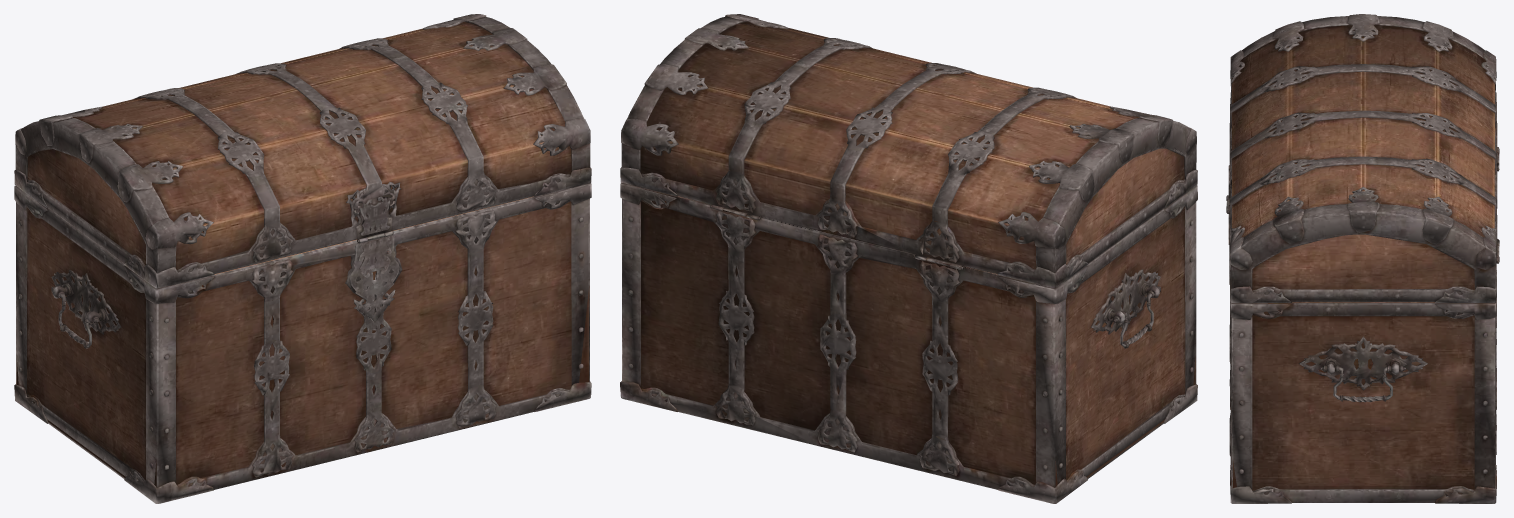
File: treasure_chest.glb
The picture shows the model from 3 angles, left to right: view 1: azimuth 30°, elevation 25°; view 2: azimuth 150°, elevation 25°; view 3: azimuth 270°, elevation 25°; orthographic projection. The views are drawn at different scales.
Visible parts, largest first — view 1: treasure_chest_bottom; view 2: treasure_chest_bottom; view 3: treasure_chest_bottom.
Part boxes in pixels (x1,y1,x2,y2): treasure_chest_bottom: (14,14,591,503); treasure_chest_bottom: (620,14,1197,503); treasure_chest_bottom: (1226,14,1499,503).
Bounding box in the file's own units: 0.959 × 0.6182 × 0.5227.
Materials: 1 (1 with a texture image).
